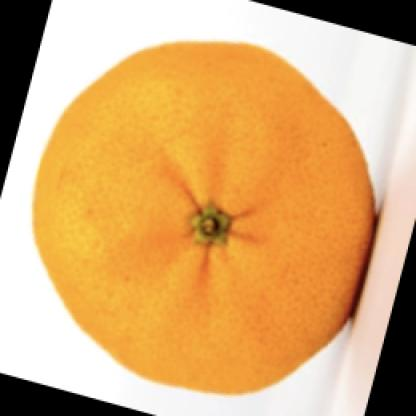fresh: (30, 42, 381, 398)
